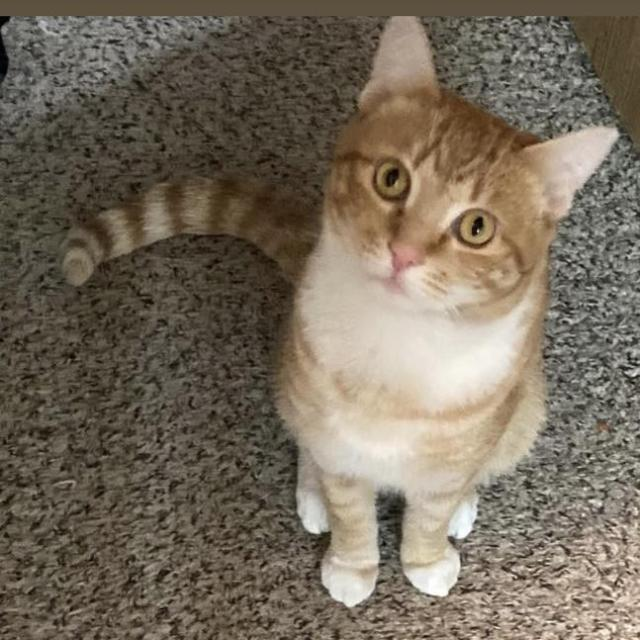american_shorthair_cat: (310, 17, 620, 322)
